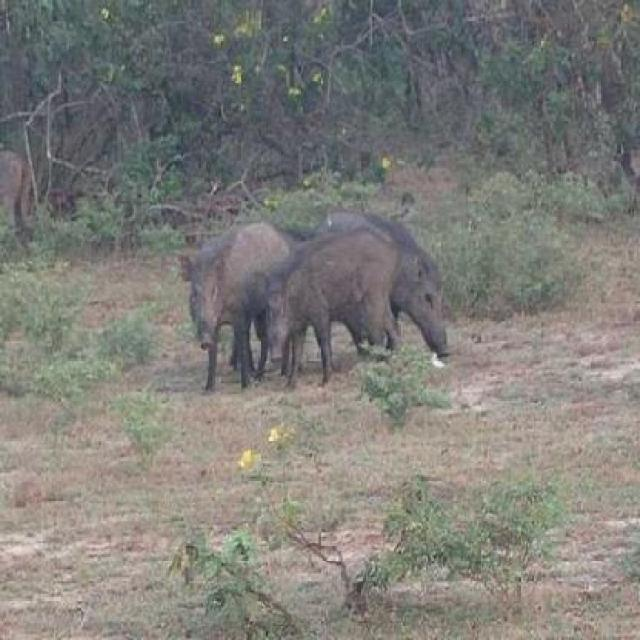Boar: (245, 212, 409, 372), (350, 189, 472, 368), (177, 217, 291, 383)
